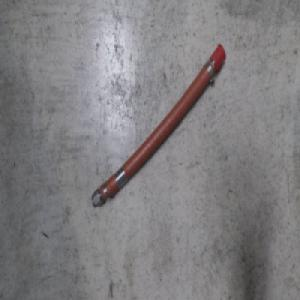Hose: (89, 42, 228, 212)
